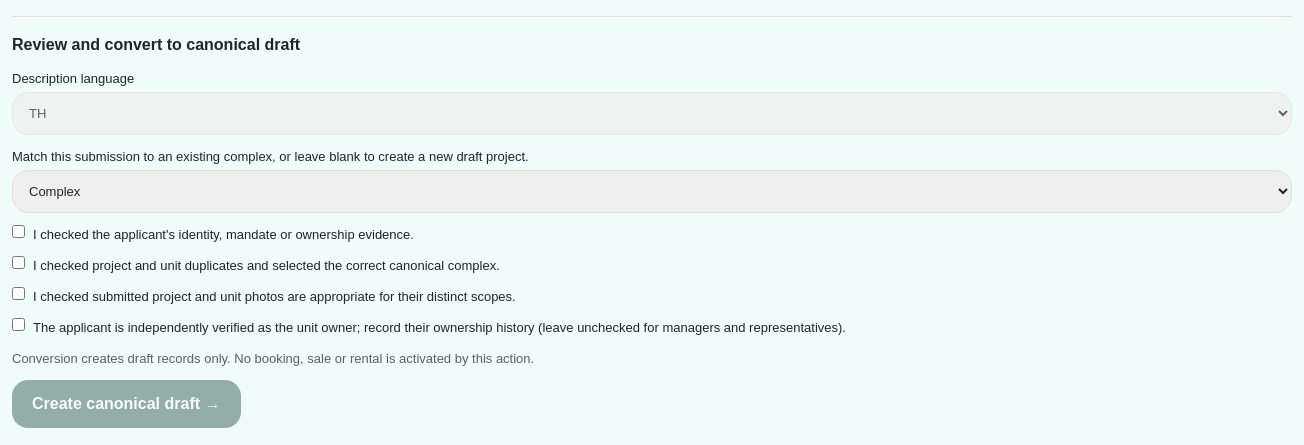
description language at administrative conversion › shows the submitted locale without letting a different reviewer UI relabel it
Expected: the dropdown labelled "Description language" shows "TH", [12,92,1292,135]
Expected: the dropdown labelled "Description language" is disabled, [12,92,1292,135]
Click the checkbox labelled "I checked the applicant's identity, mandate or ownership evidence." at (18,232), box [12,225,25,238]
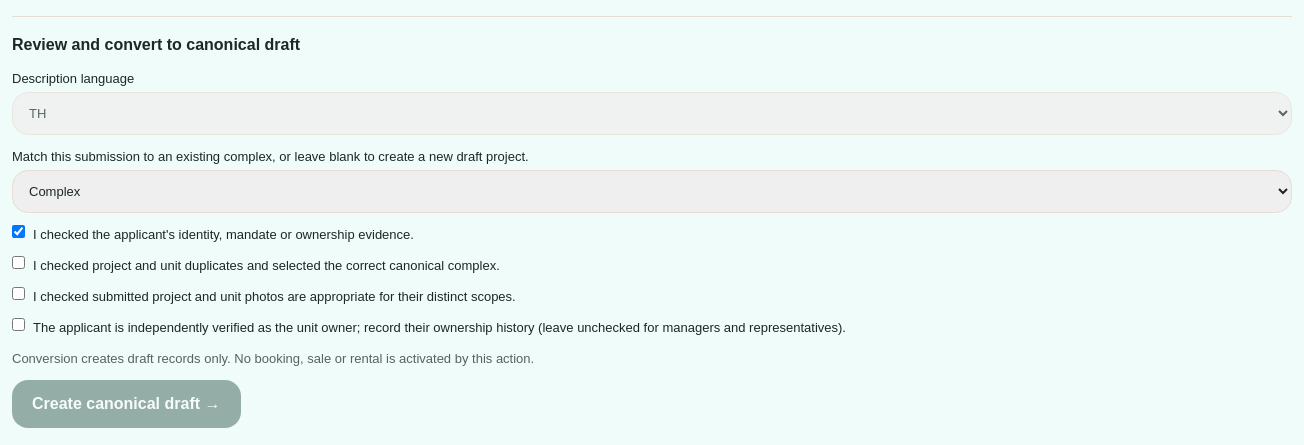
Click the checkbox named "I checked project and unit duplicates and selected the correct canonical complex." at (18,262), box [12,256,25,269]
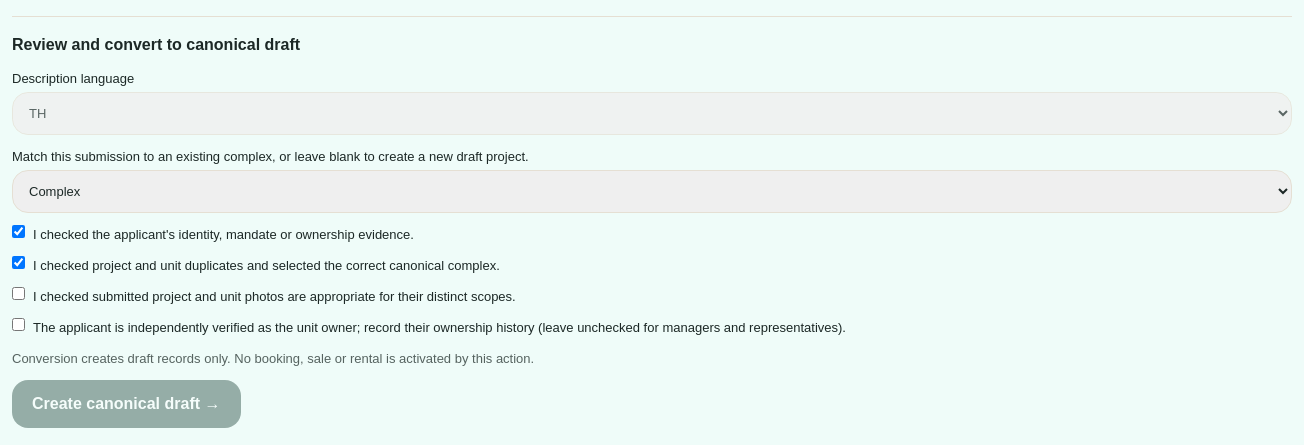
Click the checkbox named "I checked submitted project and unit photos are appropriate for their distinct scopes." at (18,294), box [12,287,25,300]
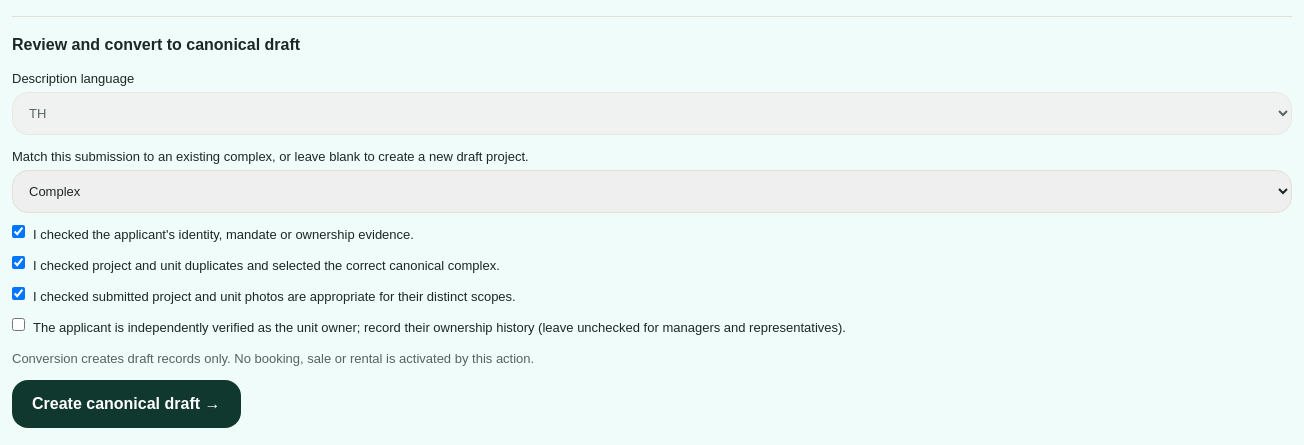
Expected: the button "Create canonical draft →" is enabled, [12,380,240,428]
